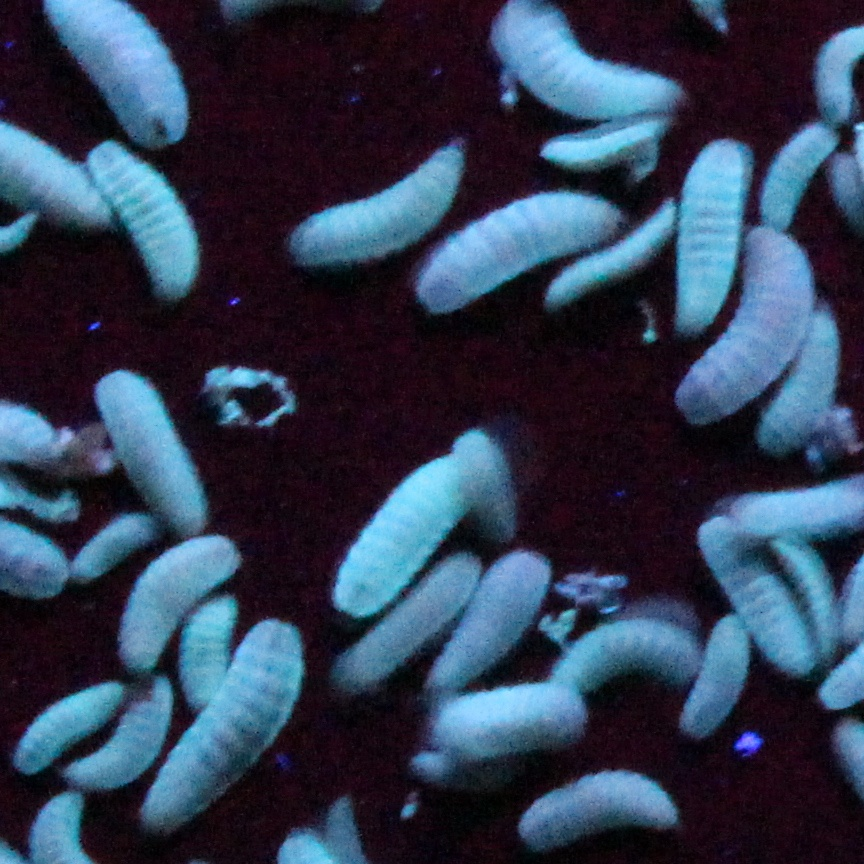larve: (141, 613, 316, 850), (680, 236, 824, 419), (420, 195, 629, 307), (335, 456, 469, 615), (490, 3, 682, 113), (298, 138, 467, 258), (96, 148, 204, 307), (696, 521, 808, 670), (349, 552, 475, 682), (128, 531, 245, 670), (437, 550, 543, 697), (100, 374, 202, 521), (551, 199, 678, 309), (678, 140, 751, 327), (426, 685, 578, 768), (526, 774, 678, 852), (73, 678, 180, 787), (765, 303, 843, 448), (557, 619, 696, 697), (688, 605, 755, 727), (10, 685, 104, 768), (455, 429, 520, 544), (778, 532, 835, 662), (184, 580, 239, 701), (763, 121, 829, 219), (73, 511, 159, 580), (537, 121, 665, 158)
